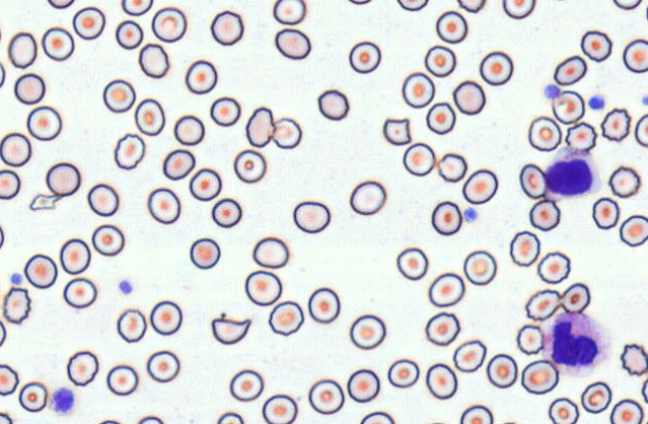GRAN: (540, 307, 614, 379)
MONO: (546, 148, 608, 204)
PLT: (47, 386, 76, 416), (587, 94, 608, 112), (117, 279, 136, 298), (462, 206, 479, 223), (544, 84, 562, 100), (10, 272, 24, 286)
RBC: (520, 359, 558, 394), (244, 270, 282, 305), (308, 378, 344, 414), (462, 168, 498, 204), (151, 6, 187, 42), (428, 272, 465, 307), (349, 180, 386, 215), (349, 314, 386, 349), (268, 300, 304, 335), (26, 105, 62, 140), (292, 200, 330, 233), (425, 311, 460, 346), (23, 253, 57, 289), (524, 288, 561, 321), (401, 71, 434, 108), (147, 187, 180, 224), (45, 162, 80, 196), (479, 50, 513, 85), (245, 106, 274, 147), (307, 287, 340, 323), (252, 236, 289, 268), (346, 368, 380, 402), (210, 10, 243, 45), (463, 250, 496, 285), (102, 78, 135, 113), (528, 116, 561, 151), (41, 26, 74, 61), (452, 80, 485, 115), (149, 300, 182, 335), (59, 238, 91, 274), (113, 133, 145, 169), (425, 363, 457, 399), (66, 350, 98, 386), (274, 28, 311, 59), (134, 98, 165, 135), (452, 339, 486, 372), (402, 142, 435, 176), (551, 90, 584, 124), (233, 149, 266, 183), (185, 59, 217, 94), (509, 230, 540, 266), (138, 42, 169, 78), (7, 31, 37, 68), (2, 286, 31, 324), (537, 251, 570, 284), (72, 6, 105, 39), (91, 223, 124, 256), (608, 165, 641, 198), (348, 40, 381, 73), (189, 167, 221, 201), (229, 369, 263, 401), (146, 350, 180, 382), (486, 353, 517, 388), (0, 132, 31, 167), (431, 200, 462, 235), (261, 393, 297, 423), (162, 148, 195, 180), (396, 247, 428, 280), (87, 183, 119, 216), (435, 10, 467, 43), (580, 29, 612, 62), (63, 277, 97, 308), (600, 107, 631, 141), (553, 54, 587, 85), (13, 72, 45, 104), (424, 45, 456, 77), (529, 198, 560, 231), (116, 308, 146, 342), (519, 163, 547, 199), (580, 381, 611, 413), (189, 237, 220, 269), (317, 89, 349, 120), (106, 364, 138, 395), (425, 101, 455, 134), (565, 121, 596, 152), (211, 197, 242, 228), (173, 114, 204, 145), (272, 117, 302, 149), (387, 358, 419, 388), (560, 282, 590, 313), (209, 96, 240, 126), (619, 214, 647, 247), (437, 152, 467, 182), (18, 381, 47, 412), (516, 323, 544, 355), (591, 197, 619, 229), (620, 343, 647, 376), (622, 38, 647, 73), (609, 398, 643, 423), (115, 19, 143, 49), (273, 0, 306, 25), (548, 397, 579, 423), (459, 404, 493, 423), (502, 0, 535, 19), (0, 363, 19, 396), (0, 169, 20, 199), (121, 0, 153, 15), (634, 113, 647, 147), (359, 411, 394, 423), (456, 0, 485, 13), (397, 0, 428, 11), (216, 411, 244, 423), (612, 0, 642, 10), (47, 0, 74, 9), (136, 415, 164, 423), (641, 377, 648, 404), (0, 320, 6, 346), (0, 412, 12, 424), (0, 61, 5, 88), (96, 419, 121, 424), (347, 0, 372, 5), (0, 224, 4, 249), (422, 421, 451, 424), (498, 420, 519, 424), (645, 3, 648, 21), (550, 0, 574, 2)
Schistocyte: (210, 316, 254, 349), (29, 193, 66, 211)
